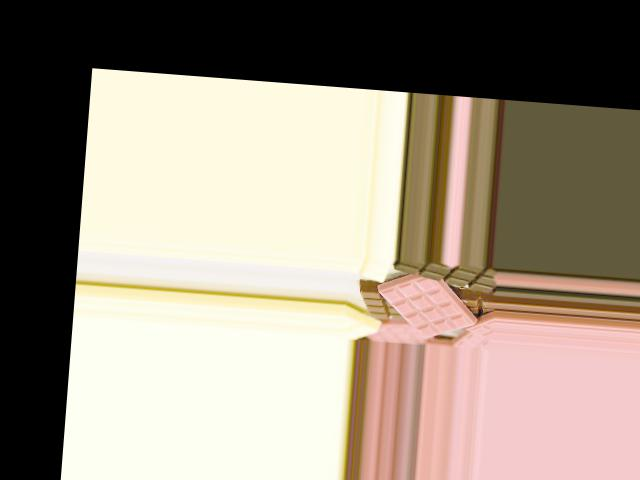chocolate: (375, 258, 481, 344)
